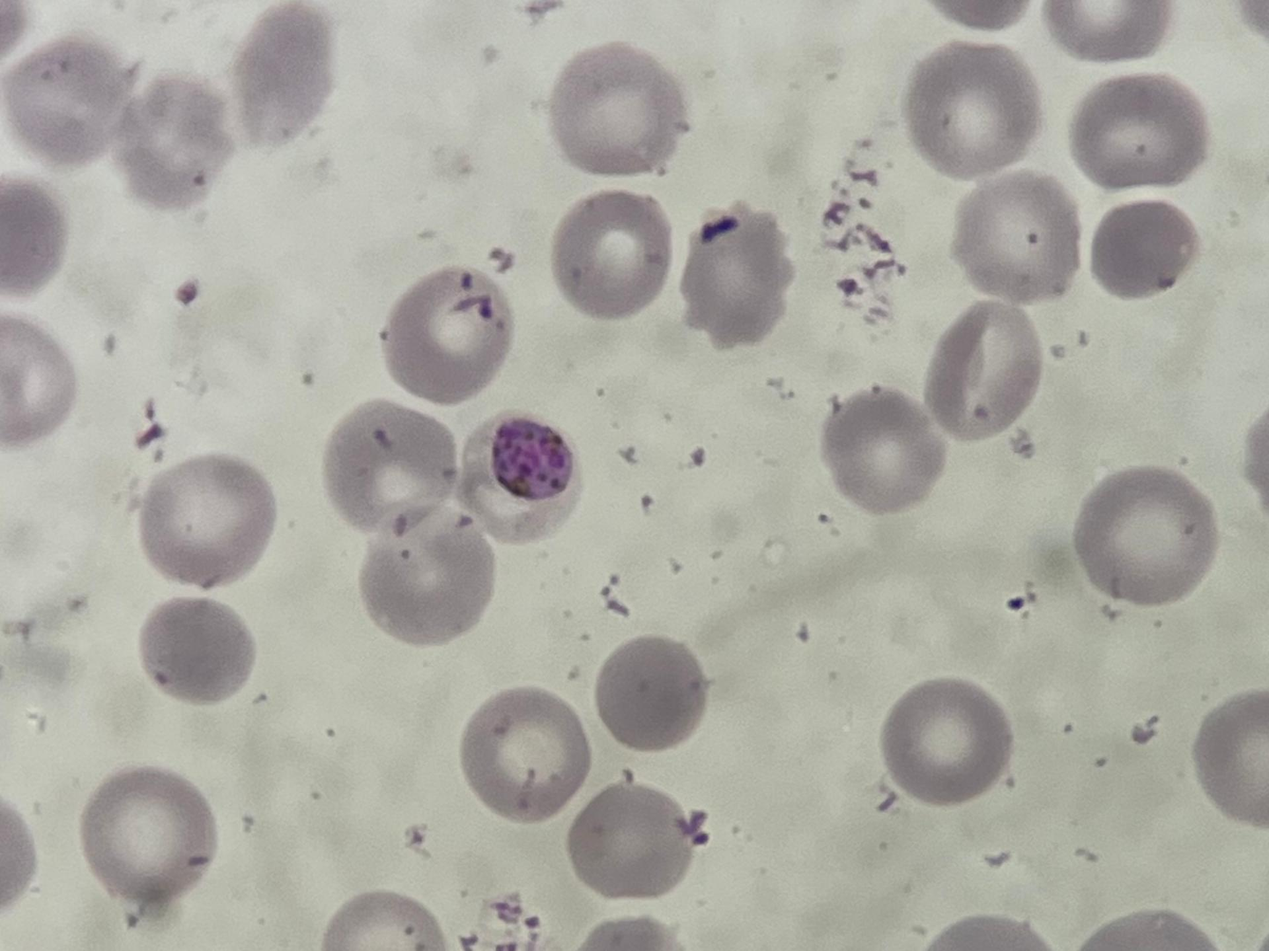Infected: (458, 415, 585, 550)
Uninfected: (1075, 466, 1216, 614), (355, 507, 494, 646), (322, 399, 457, 536), (383, 265, 513, 406), (947, 168, 1078, 306), (921, 296, 1050, 436), (905, 43, 1044, 171), (460, 686, 586, 827), (555, 45, 689, 173), (106, 71, 232, 205), (141, 459, 276, 584), (79, 776, 217, 896), (886, 677, 1015, 802), (683, 203, 793, 349), (0, 43, 134, 161), (824, 388, 950, 512), (542, 192, 661, 321), (229, 1, 330, 149), (1075, 76, 1206, 190), (557, 789, 689, 893), (599, 633, 708, 746), (134, 604, 258, 700), (1093, 195, 1197, 304)
